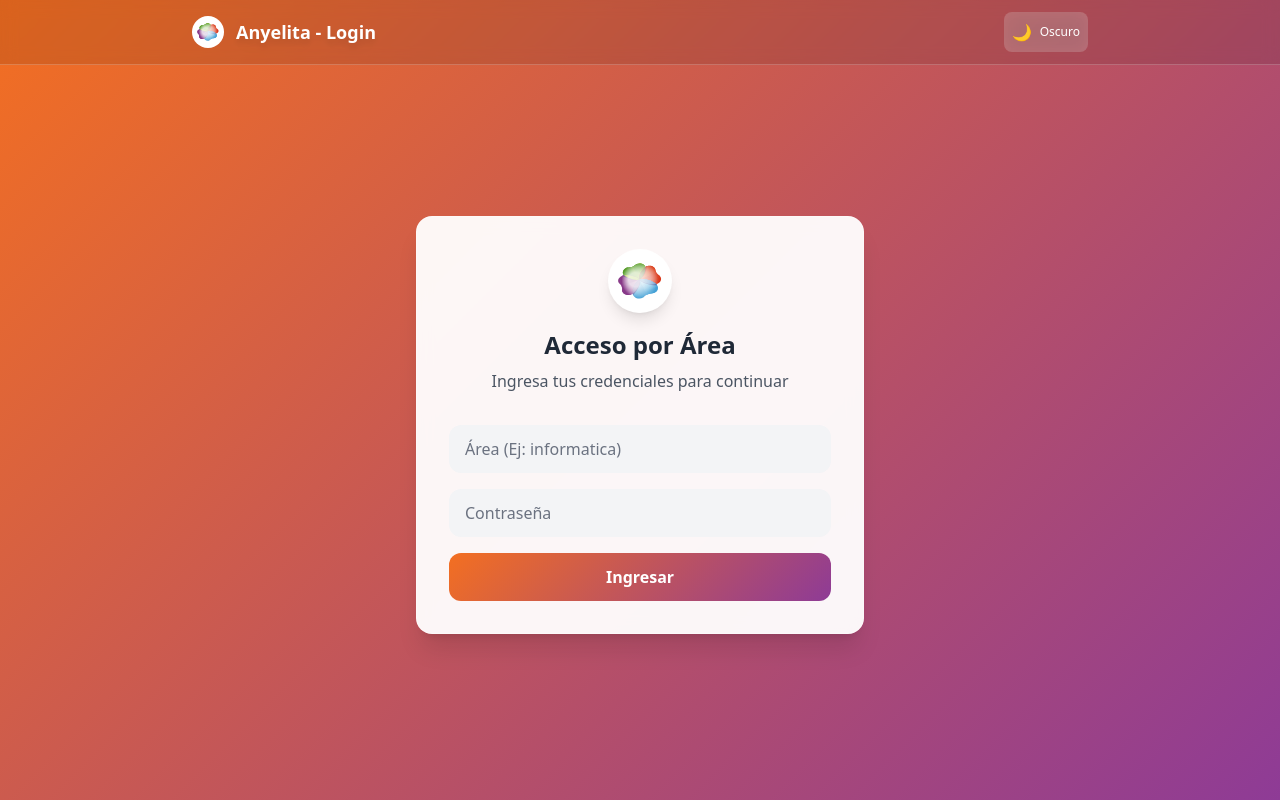
🎨 App Component › Theme Management › should toggle between light and dark theme
# Toggle to dark
Click the button "🌙 Oscuro": (1046, 32) [1004,12,1088,52]
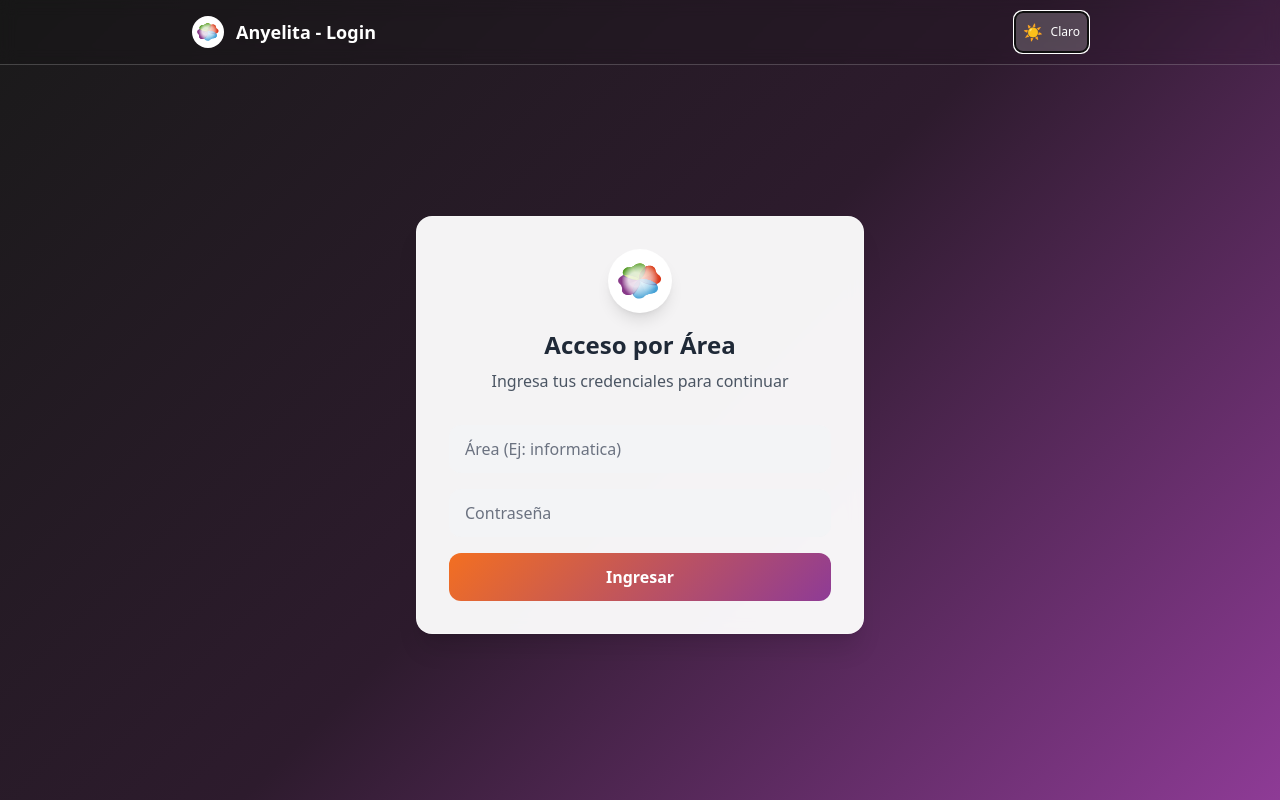
Now the button "☀️ Claro" is shown
# Toggle back to light
Click the button "☀️ Claro": (1051, 32) [1015,12,1088,52]
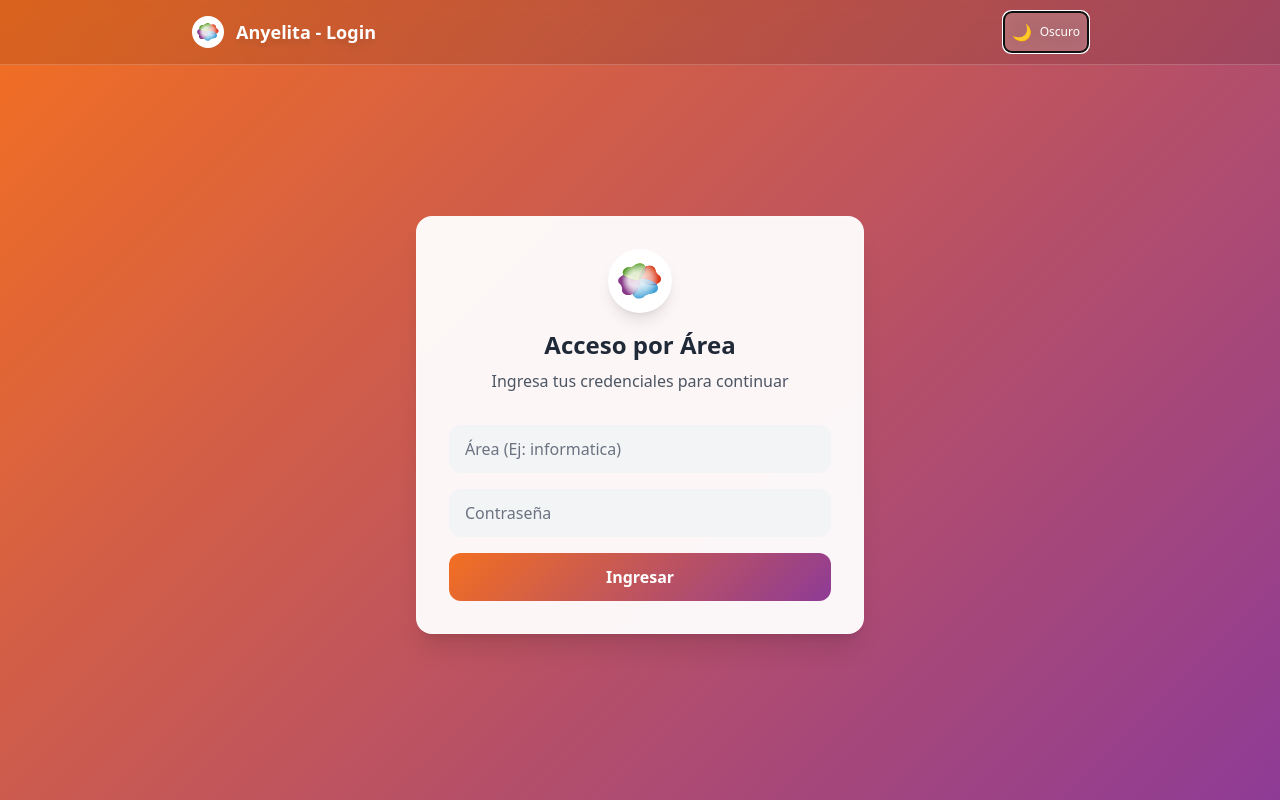
Now the button "🌙 Oscuro" is shown, box [1004,12,1088,52]
